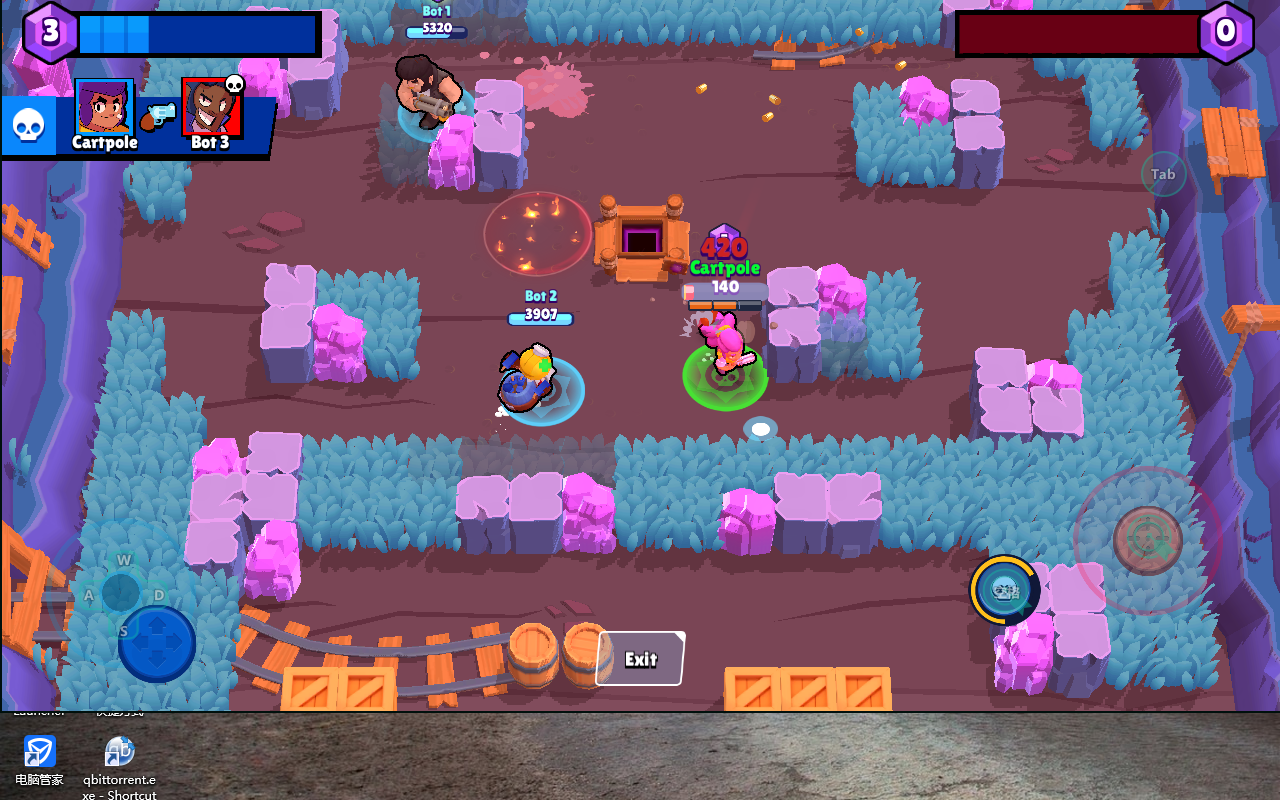current_player: (681, 343, 770, 411)
